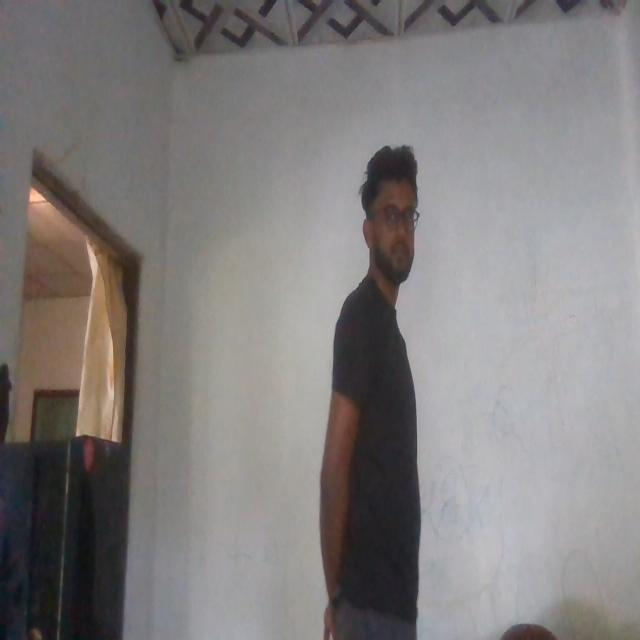Person: (314, 126, 442, 625)
